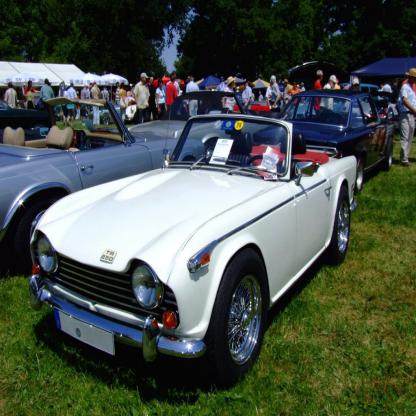Car: (0, 84, 416, 386)
